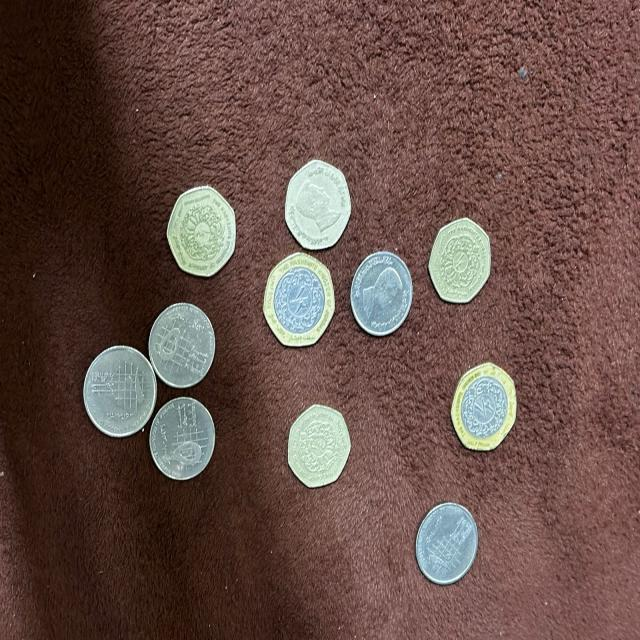10-coins: (79, 342, 156, 438), (414, 498, 479, 587)
25-coins: (164, 183, 240, 280), (284, 156, 356, 251), (286, 403, 358, 490), (431, 215, 498, 304)
5-coins: (146, 300, 222, 390), (146, 396, 218, 484), (349, 247, 419, 336)
50-coins: (263, 251, 336, 349), (448, 362, 516, 452)
